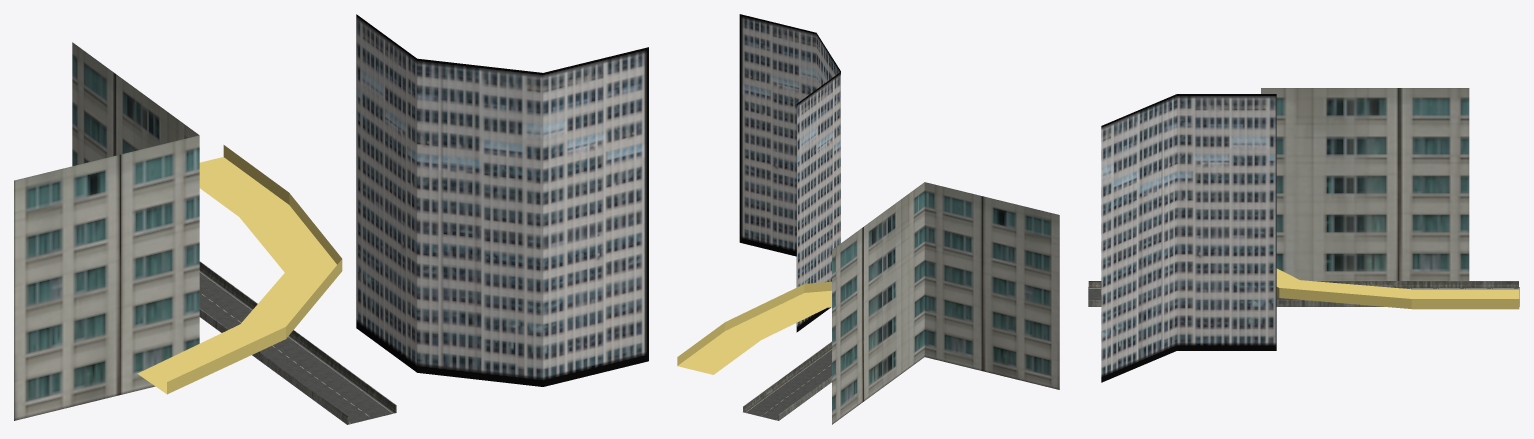
File: Enviroment_assets_1.3.fbx
The picture shows the model from 3 angles, left to right: view 1: azimuth 30°, elevation 25°; view 2: azimuth 150°, elevation 25°; view 3: azimuth 270°, elevation 25°; orthographic projection. The views are drawn at different scales.
Visible parts, largest first — view 1: Cube.008, Plane.004, Road_plane, Plane.003, Plane.001, Plane.002; view 2: Cube.008, Plane.004, Road_plane, Plane.003, Plane.001, Plane.002; view 3: Cube.008, Plane.003, Plane.004, Plane.002, Road_plane, Plane.001.
Boxes of the visible parts, <box> form: Cube.008: <box>14,14,648,420</box>; Plane.004: <box>137,157,336,393</box>; Road_plane: <box>199,270,396,424</box>; Plane.003: <box>167,145,342,394</box>; Plane.001: <box>199,261,396,412</box>; Plane.002: <box>199,308,348,424</box>; Cube.008: <box>739,14,1059,424</box>; Plane.004: <box>677,290,831,374</box>; Road_plane: <box>743,348,831,420</box>; Plane.003: <box>677,281,831,365</box>; Plane.001: <box>743,341,831,411</box>; Plane.002: <box>777,376,831,420</box>; Cube.008: <box>1101,88,1469,382</box>; Plane.003: <box>1276,287,1519,309</box>; Plane.004: <box>1276,268,1519,298</box>; Plane.002: <box>1088,281,1518,287</box>; Road_plane: <box>1088,287,1519,306</box>; Plane.001: <box>1088,300,1379,306</box>.
Bounding box in the file's own units: 35284 × 19717 × 29994.
